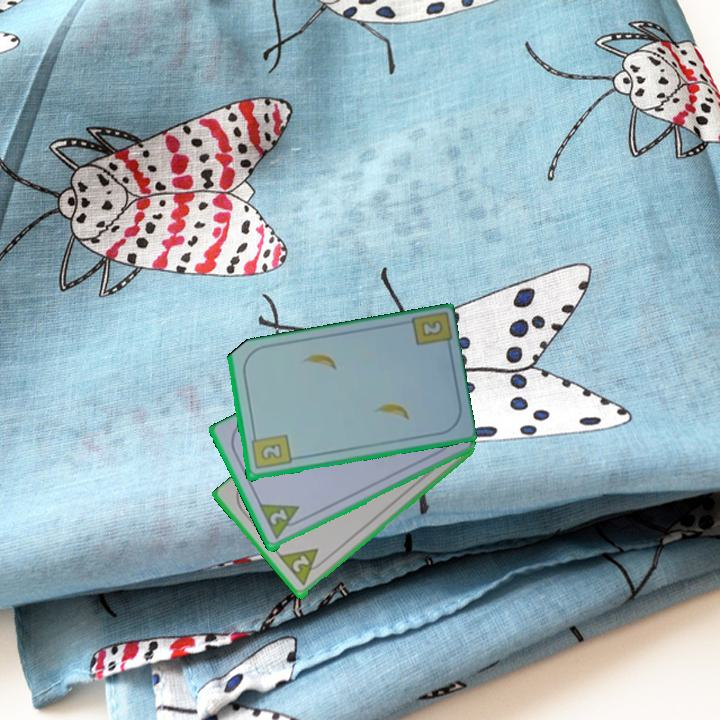2b: (247, 430, 294, 472), (417, 316, 446, 340)
2p: (276, 545, 329, 589), (256, 501, 307, 543)
